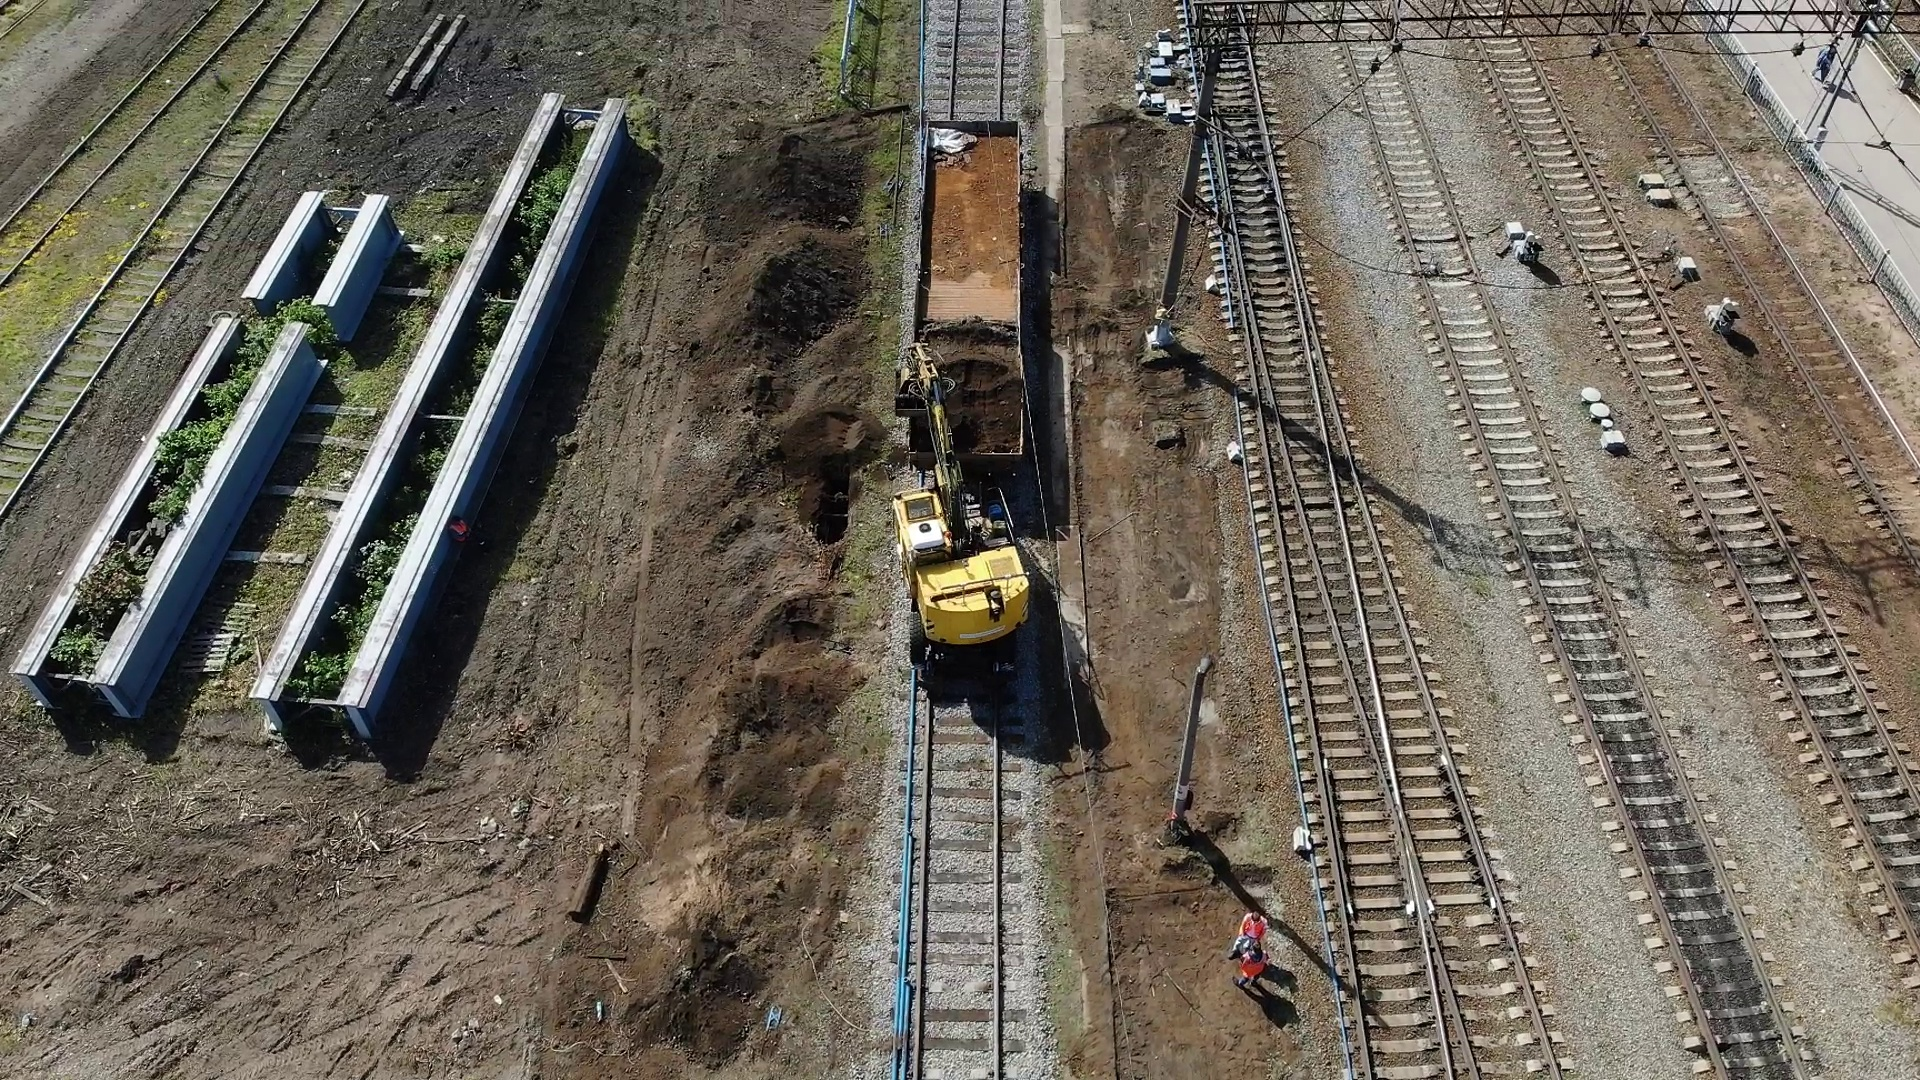kjtv: (882, 450, 1042, 680)
